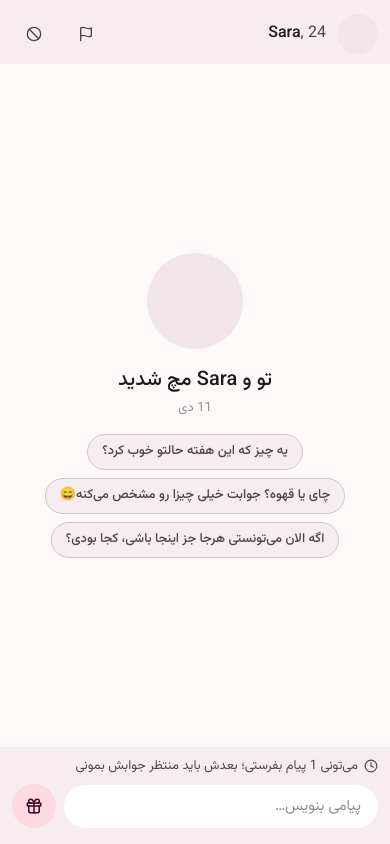
Test case: Chat — reply limit › empty chat: notice, then locked after one message
Expected: the text "می‌تونی 1 پیام بفرستی؛ بعدش باید منتظر جوابش بمونی" is shown, [76,756,378,776]
Type "hi" into the text box with placeholder "پیامی بنویس…" at (221, 806), box [64,785,378,828]
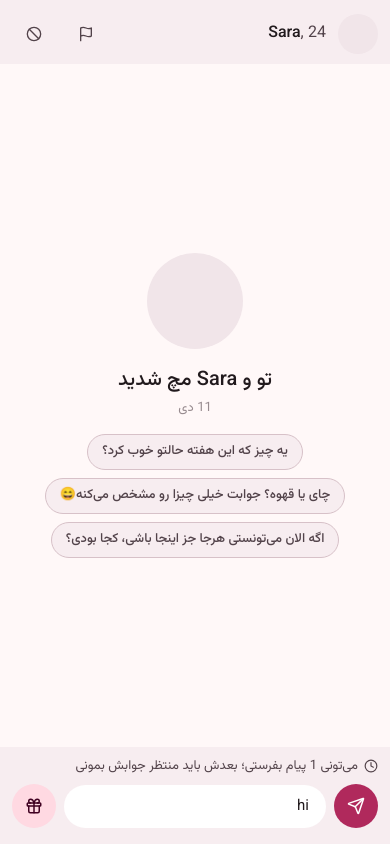
Click the button named "ارسال" at (356, 806), box [334,784,378,828]
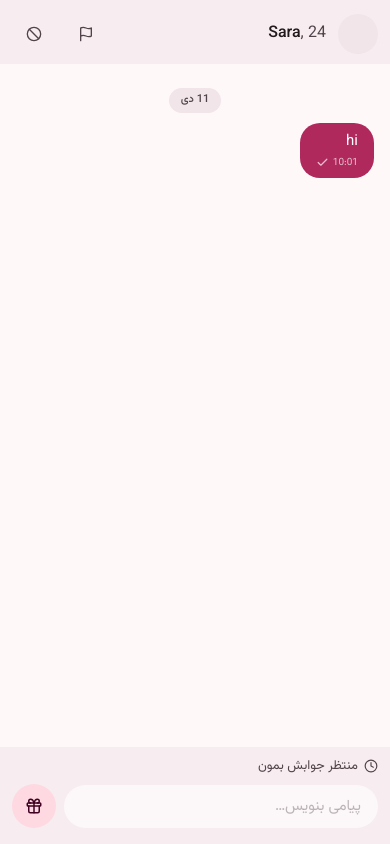
Expected: the text "منتظر جوابش بمون" is shown, [258,756,378,776]
Expected: the text "می‌تونی 1 پیام بفرستی؛ بعدش باید منتظر جوابش بمونی" is gone
Expected: the text box with placeholder "پیامی بنویس…" is disabled, [64,785,378,828]
